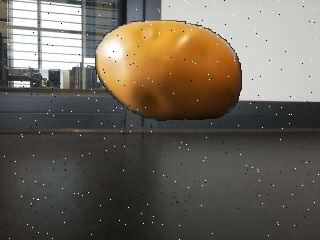Potato: (93, 20, 244, 122)
